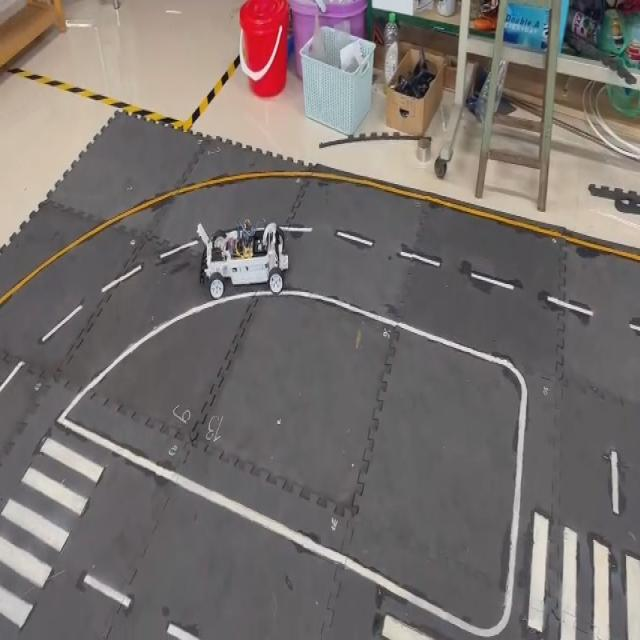SiCo-CAR: (195, 216, 288, 300)
